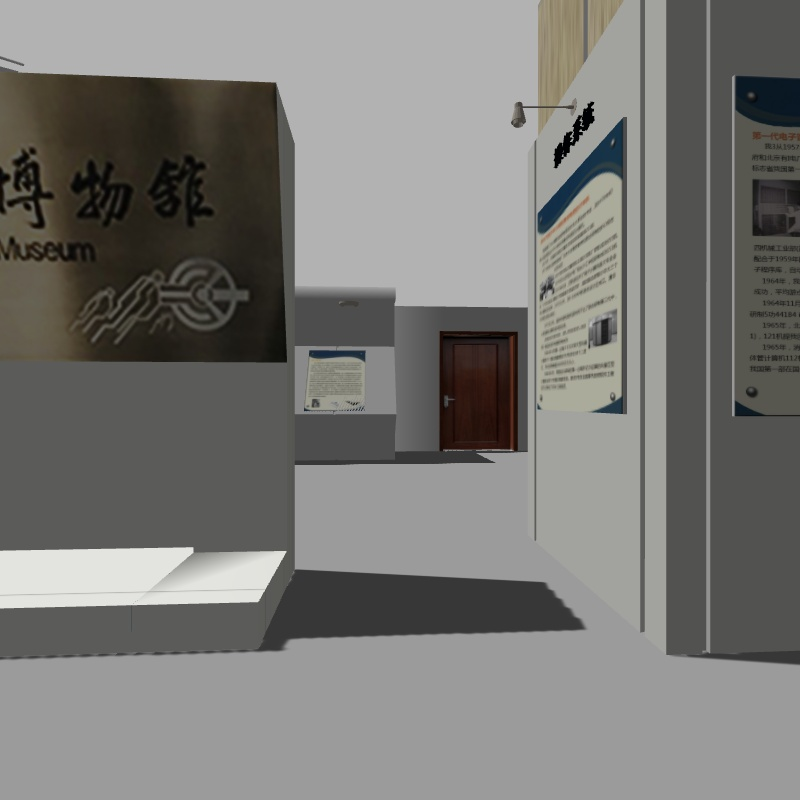handle: (440, 390, 458, 410)
